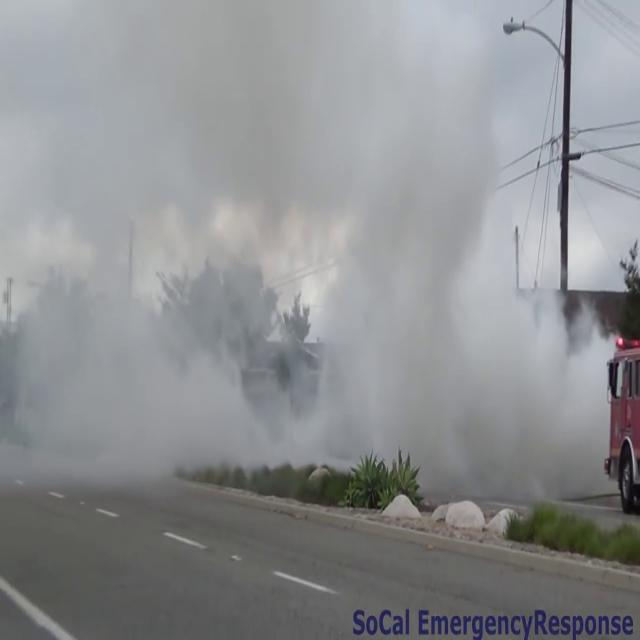Smoke: (1, 1, 618, 504)
